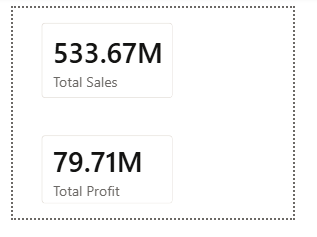

The dashboard page shown, as its layout file describes it:
{"tool":"powerbi","page":{"name":"tooltip page","canvas":[320,240],"ordinal":2},"visuals":[{"type":"cardVisual","fields":{"Data":["Sales.Total Profit"]},"box":[16,128,184,112],"z":0},{"type":"cardVisual","fields":{"Data":["Sales.Total Sales"]},"box":[16,0,184,120],"z":1000}]}

Visuals, with their boxes in screenshot pixels (x1, y1, x2, y2), scaled from the page's 320x240 canvas onto the 317x237 screenshot:
cardVisual - Sales.Total Profit: <bbox>16, 126, 198, 236</bbox>
cardVisual - Sales.Total Sales: <bbox>16, 0, 198, 118</bbox>
